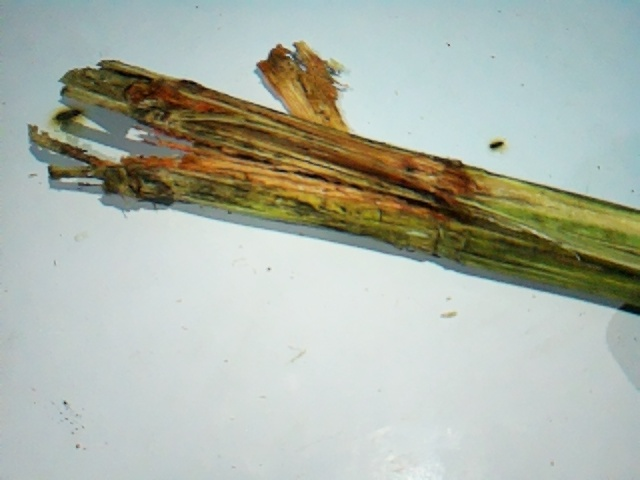Red-Rot: (29, 32, 531, 287)
